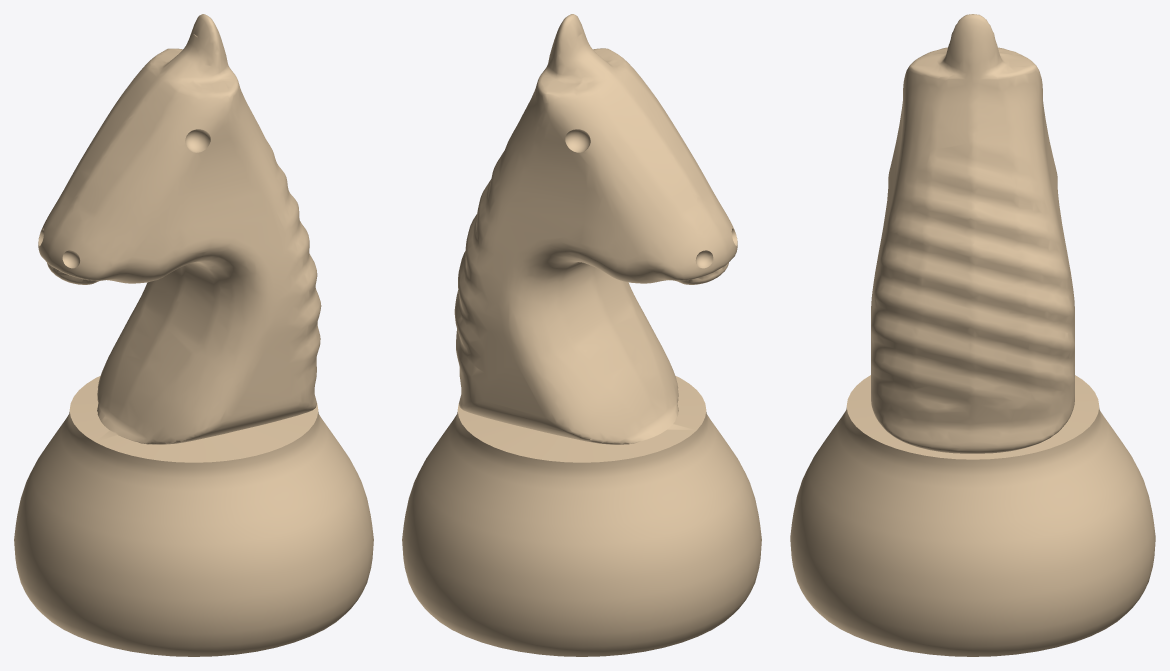
File: white-knight.glb
3 renders of one model, left to right at view 1: azimuth 30°, elevation 25°; view 2: azimuth 150°, elevation 25°; view 3: azimuth 270°, elevation 25°, orthographic.
Visible parts, largest first — view 1: white-knight.001; view 2: white-knight.001; view 3: white-knight.001.
Part boxes in pixels (x1,y1,x2,y2): white-knight.001: (14, 14, 373, 656); white-knight.001: (402, 14, 761, 656); white-knight.001: (790, 14, 1155, 656).
Size of the model in its own units: 0.68 by 1.19 by 0.68.
